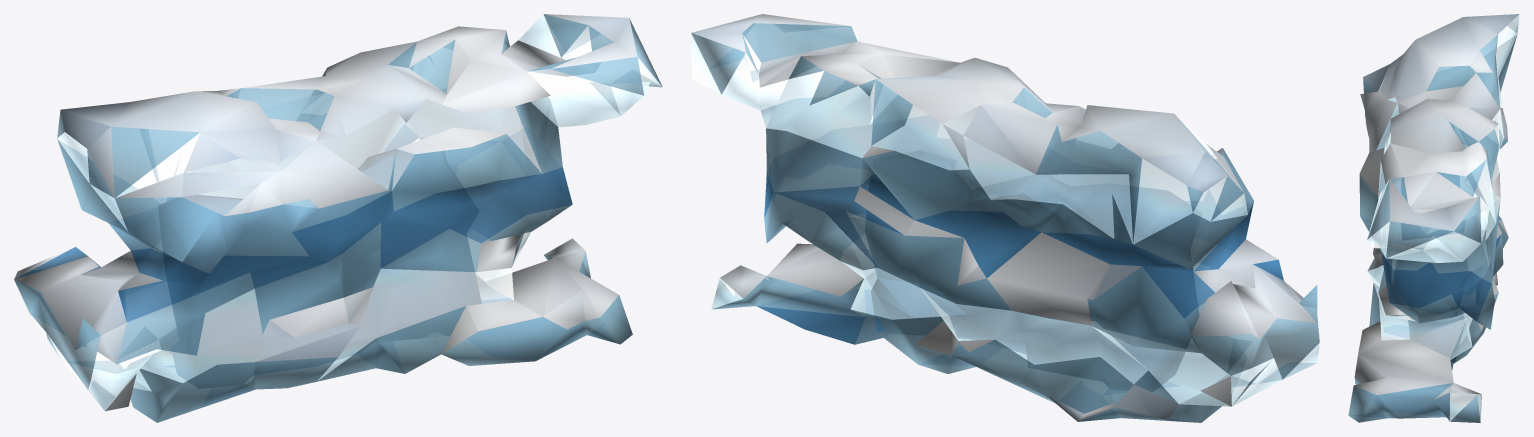
The model's file is frost_ice_cliff_c_lod2.glb.
3 views of the same model, side by side, from view 1: azimuth 30°, elevation 25°; view 2: azimuth 150°, elevation 25°; view 3: azimuth 270°, elevation 25° (orthographic). The views are drawn at different scales.
Parts seen in each view (by area): view 1: frost_ice_cliff_c.001; view 2: frost_ice_cliff_c.001; view 3: frost_ice_cliff_c.001.
Part boxes in pixels (x1,y1,x2,y2): frost_ice_cliff_c.001: [14, 14, 662, 422]; frost_ice_cliff_c.001: [691, 14, 1319, 422]; frost_ice_cliff_c.001: [1348, 14, 1519, 422].
Size of the model in its own units: 19.36 by 9.09 by 5.97.
